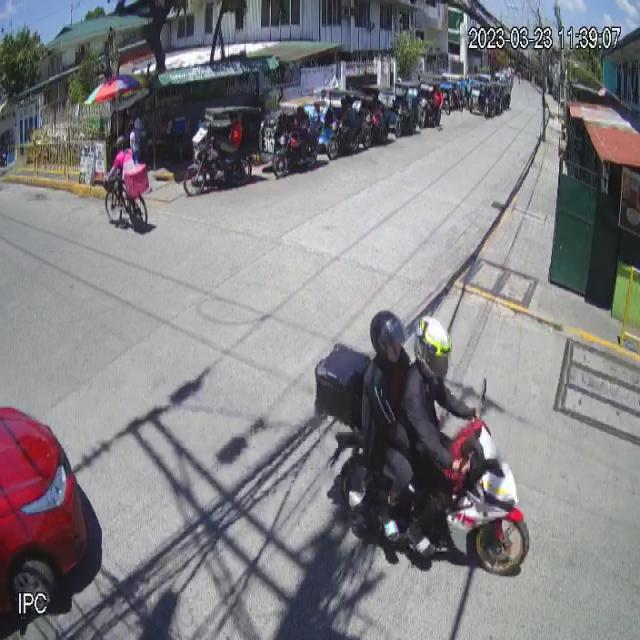Motorcycle: (314, 340, 531, 570)
